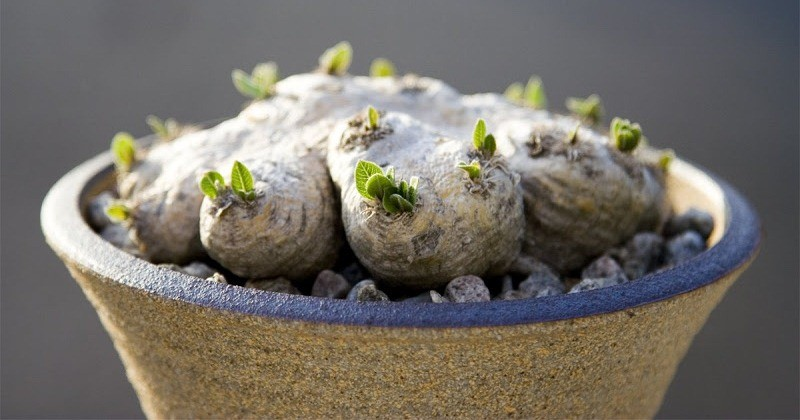Pachypodium brevicaule: (99, 52, 710, 286)
